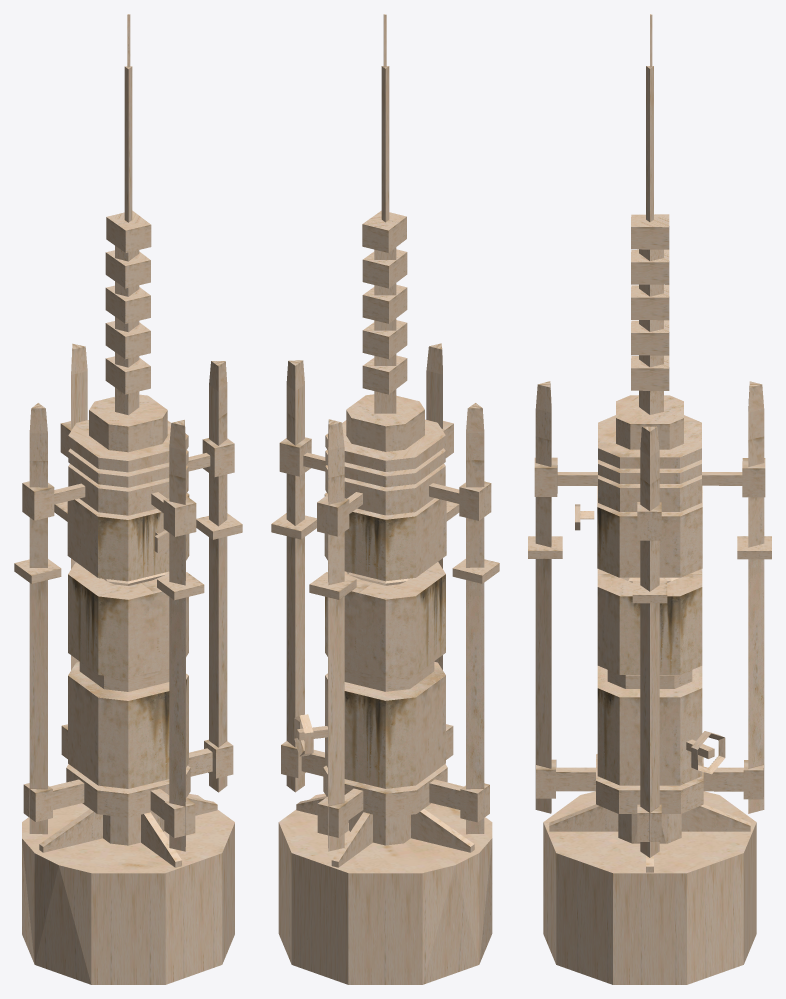
The model's file is ins_all_min_moisture_s01_u0_l1.fbx.
3 views of the same model, side by side, from view 1: azimuth 30°, elevation 25°; view 2: azimuth 150°, elevation 25°; view 3: azimuth 270°, elevation 25° (orthographic).
Parts seen in each view (by area): view 1: mesh_node; view 2: mesh_node; view 3: mesh_node.
Part boxes in pixels (left/top/right/bottom): mesh_node: left=14, top=14, right=242, bottom=984; mesh_node: left=271, top=14, right=499, bottom=984; mesh_node: left=528, top=14, right=771, bottom=984.
Size of the model in its own units: 1.85 by 7.75 by 1.85.
